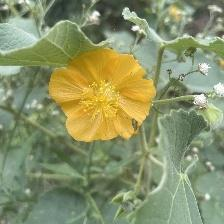indian mallow: (48, 48, 159, 144)
